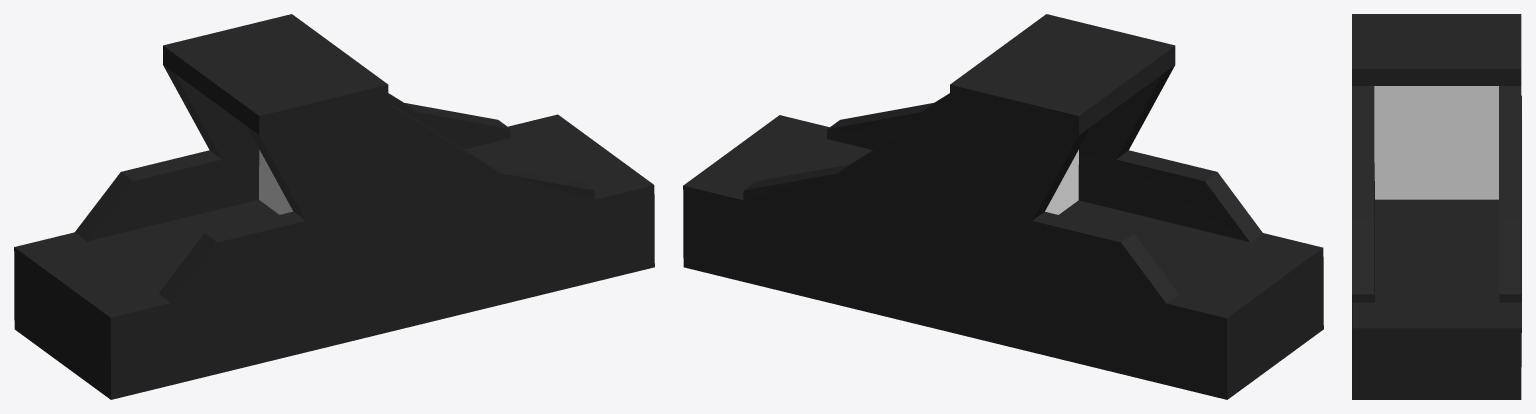
Rendered from Accessories_Red_Dot_A_V8.FBX.
The picture shows the model from 3 angles, left to right: view 1: azimuth 30°, elevation 25°; view 2: azimuth 150°, elevation 25°; view 3: azimuth 270°, elevation 25°; orthographic projection. The views are drawn at different scales.
Parts seen in each view (by area): view 1: Accessories_Red_Dot_A_V8; view 2: Accessories_Red_Dot_A_V8; view 3: Accessories_Red_Dot_A_V8.
Part boxes in pixels (<box>): Accessories_Red_Dot_A_V8: <box>14,14,654,399</box>; Accessories_Red_Dot_A_V8: <box>683,14,1323,399</box>; Accessories_Red_Dot_A_V8: <box>1352,14,1521,399</box>.
Size of the model in its own units: 38.85 by 16.91 by 11.99.
